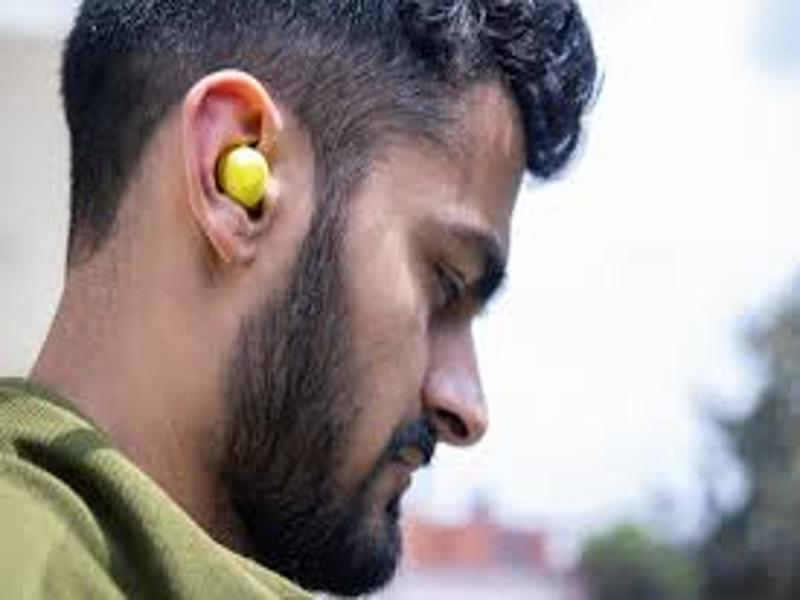headphone: (211, 142, 273, 218)
